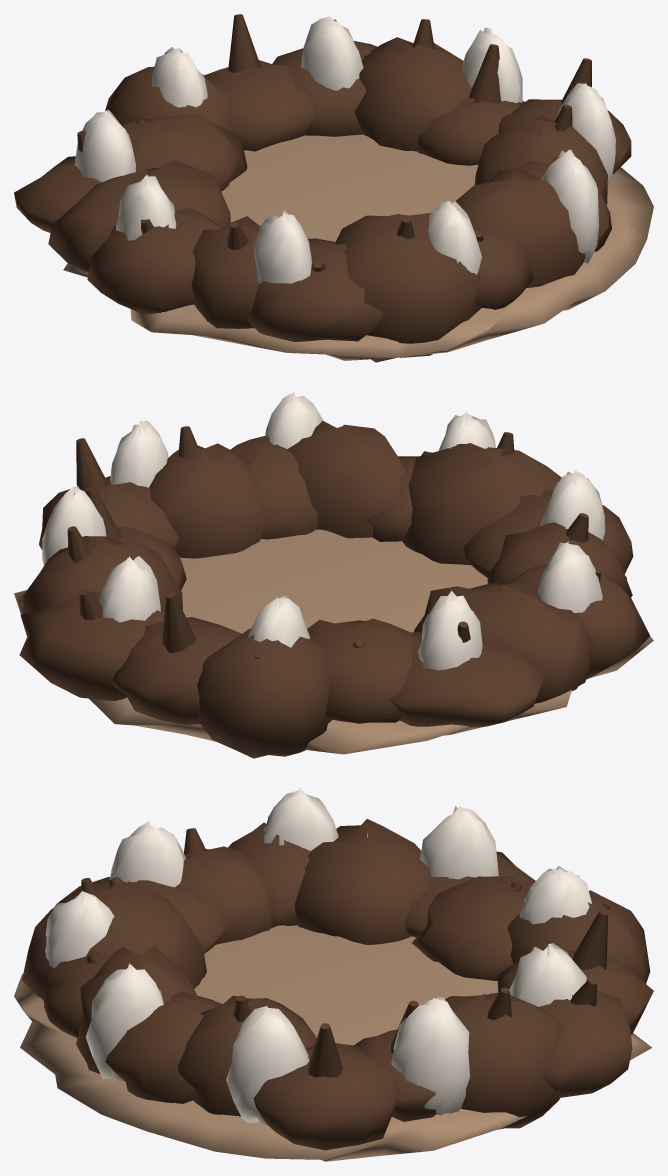
File: cliff_nest.glb
The picture shows the model from 3 angles, top to bottom: view 1: azimuth 30°, elevation 25°; view 2: azimuth 150°, elevation 25°; view 3: azimuth 270°, elevation 25°; orthographic projection. The views are drawn at different scales.
Visible parts, largest first — view 1: cliff_nest; view 2: cliff_nest; view 3: cliff_nest.
Part boxes in pixels (x1,y1,x2,y2): cliff_nest: (14,14,653,362); cliff_nest: (14,392,653,758); cliff_nest: (14,787,653,1161).
Bounding box in the file's own units: 5.04 × 1.41 × 4.87.
